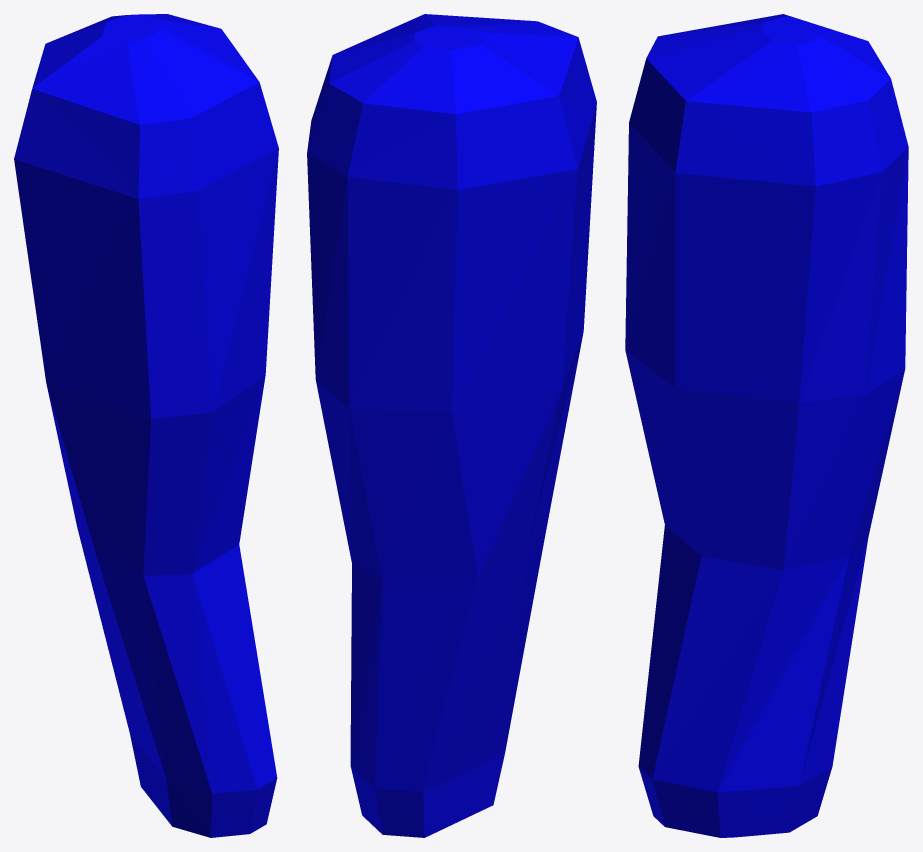
The model's file is RForearm_mesh.dae.
3 views of the same model, side by side, from view 1: azimuth 30°, elevation 25°; view 2: azimuth 150°, elevation 25°; view 3: azimuth 270°, elevation 25° (orthographic). The views are drawn at different scales.
Parts seen in each view (by area): view 1: RForearm; view 2: RForearm; view 3: RForearm.
Part boxes in pixels (x1,y1,x2,y2): RForearm: [14, 14, 278, 837]; RForearm: [307, 14, 596, 837]; RForearm: [625, 14, 908, 837].
Bounding box in the file's own units: 0.0973 × 0.3042 × 0.1004.
